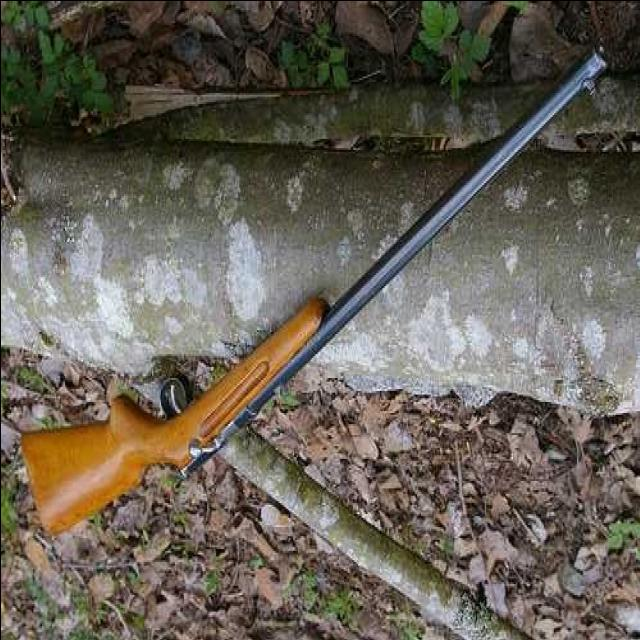heavyweapon: (27, 32, 619, 538)
